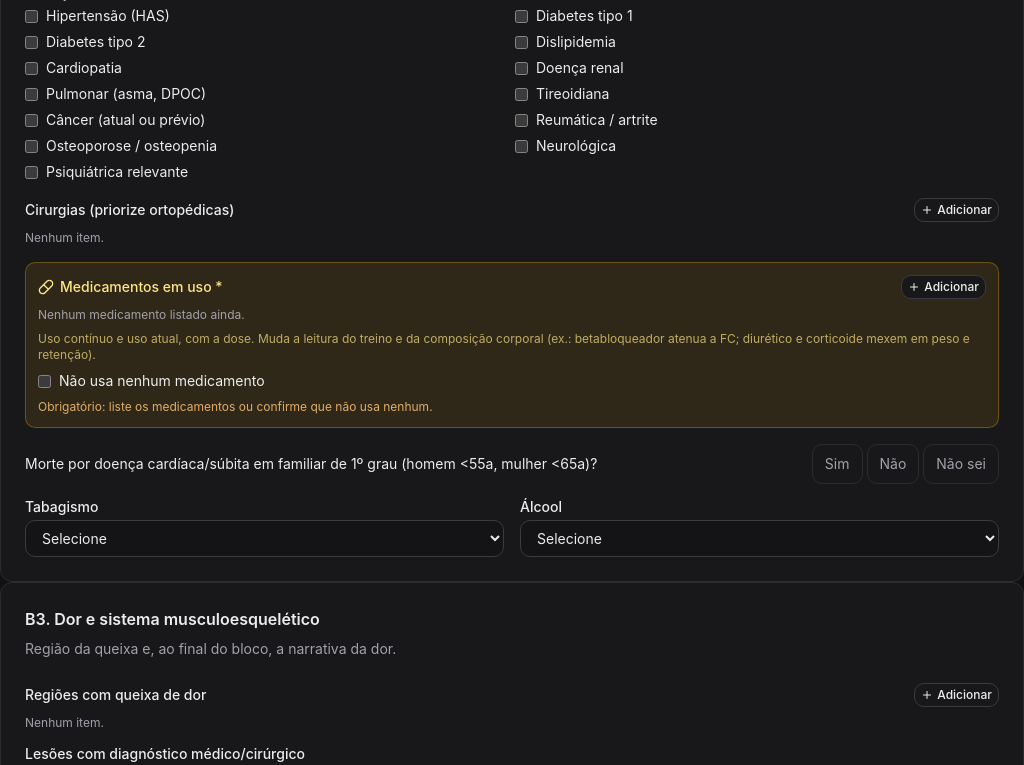
Test: medicamentos em uso — pergunta obrigatória › a confirmação de que não usa nenhum responde a pergunta
(page scrolled)
Click the checkbox labelled "Não usa nenhum medicamento".
click(44, 381)  # box [38,374,51,388]
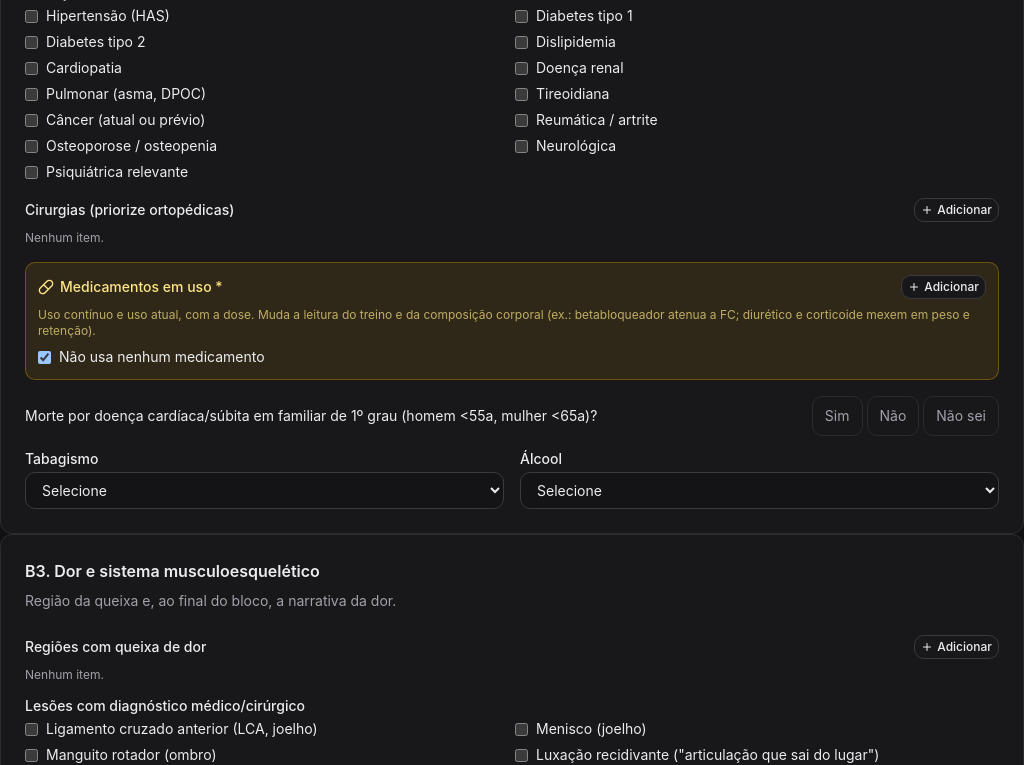
Check: the text "liste os medicamentos ou confirme que não usa nenhum" is gone
